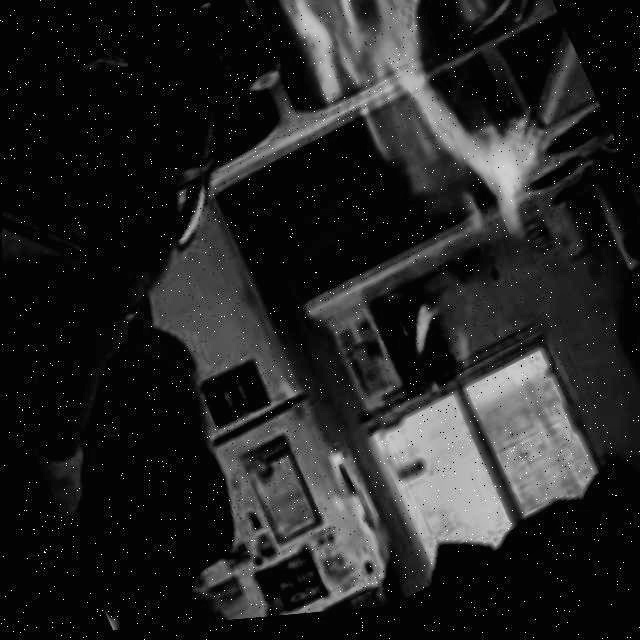Fire: (255, 0, 571, 293), (402, 296, 477, 384)
